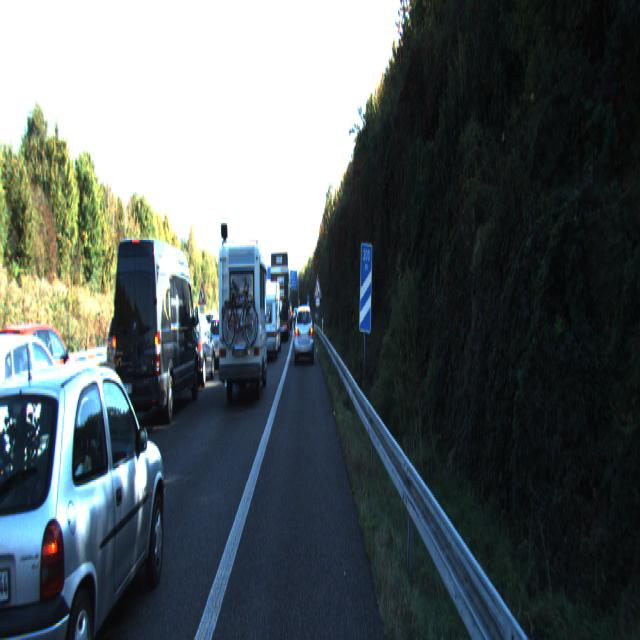Car: (0, 348, 168, 638), (111, 232, 199, 433), (0, 327, 85, 528), (0, 319, 84, 440), (217, 241, 269, 404), (105, 306, 154, 386), (176, 312, 215, 386), (254, 276, 280, 361), (270, 247, 290, 337), (294, 303, 314, 363)
